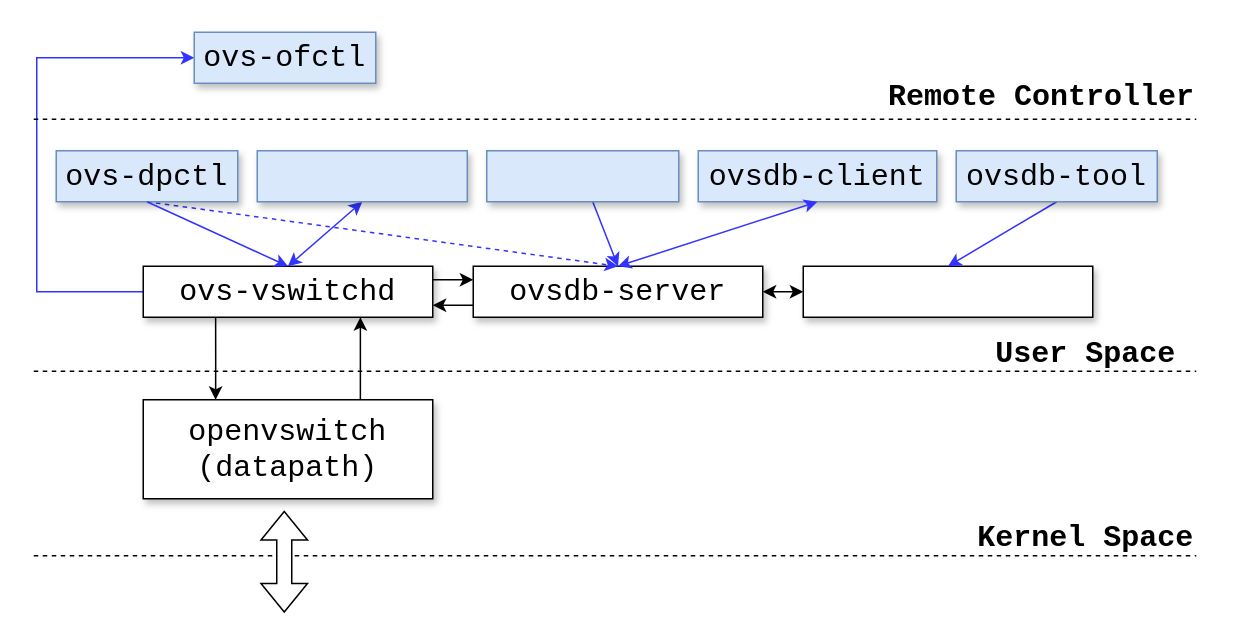
This 1241x639 diagram has some shape labels left out. Each missing label, with the centre of its shape:
"ovs-appctl" goes at pixel 363 177.
"ovs-vsctl" goes at pixel 583 177.
"ovsdb" goes at pixel 949 293.
